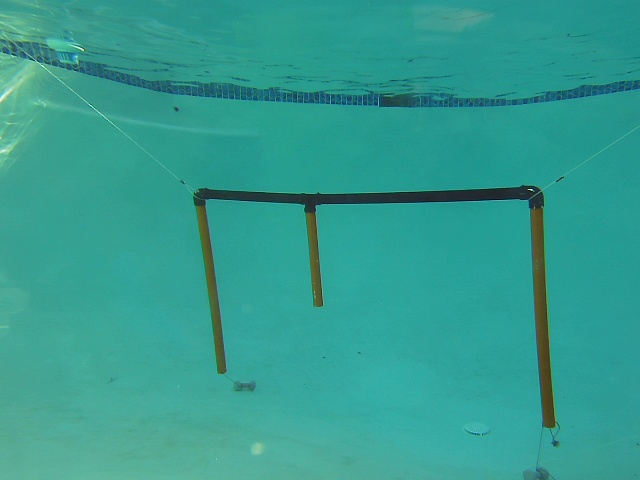Gate: (192, 200, 230, 377), (528, 202, 557, 427), (301, 204, 326, 311)
